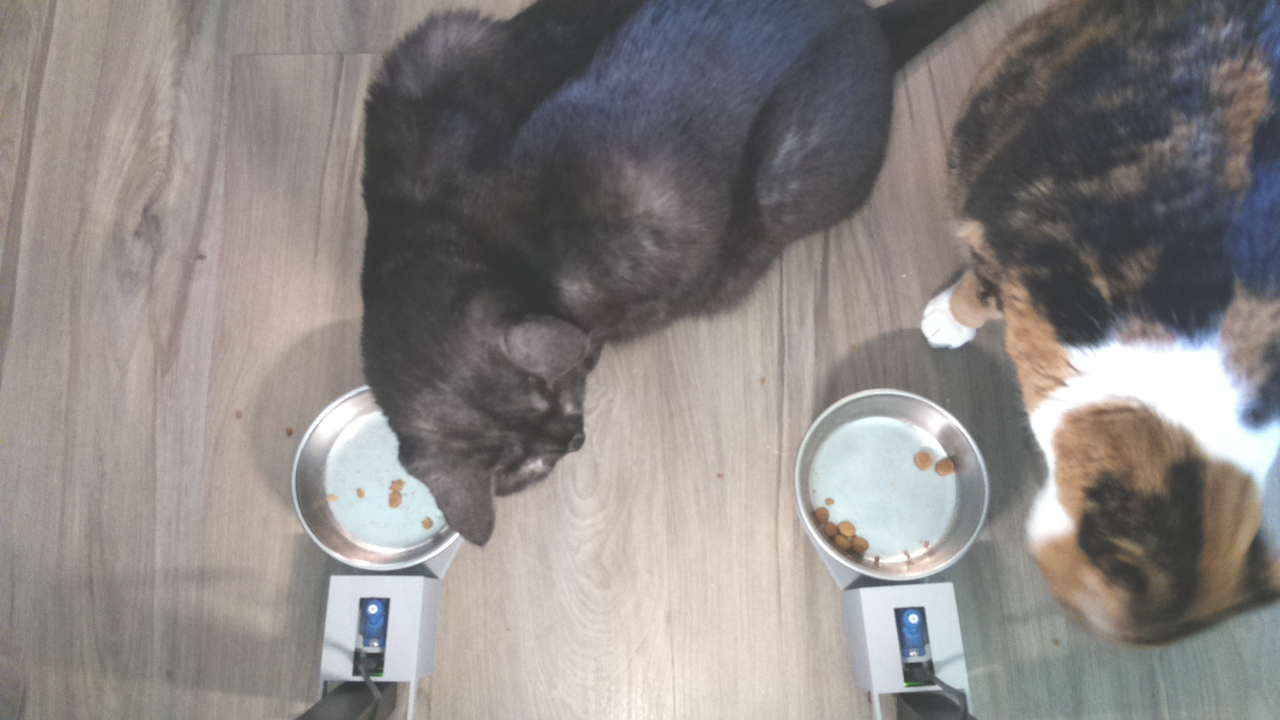bella: (1006, 365, 1280, 646)
open_bowl: (794, 383, 997, 586), (291, 380, 440, 572)
saki: (375, 253, 618, 555)
